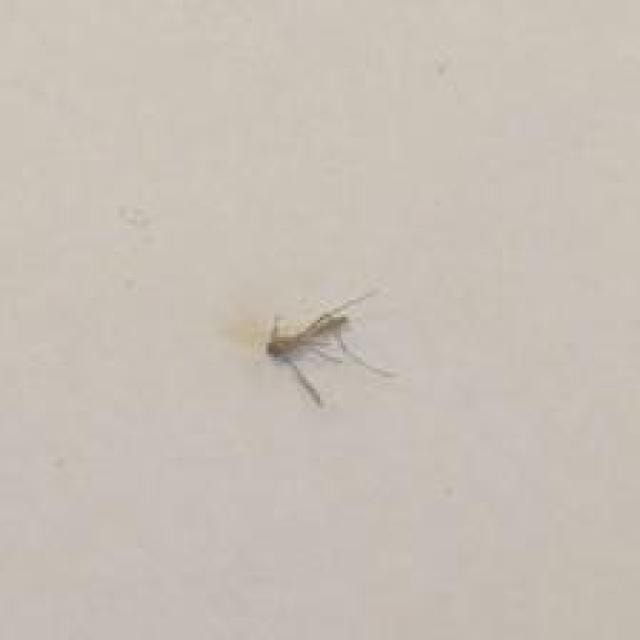Culex: (263, 286, 397, 408)
